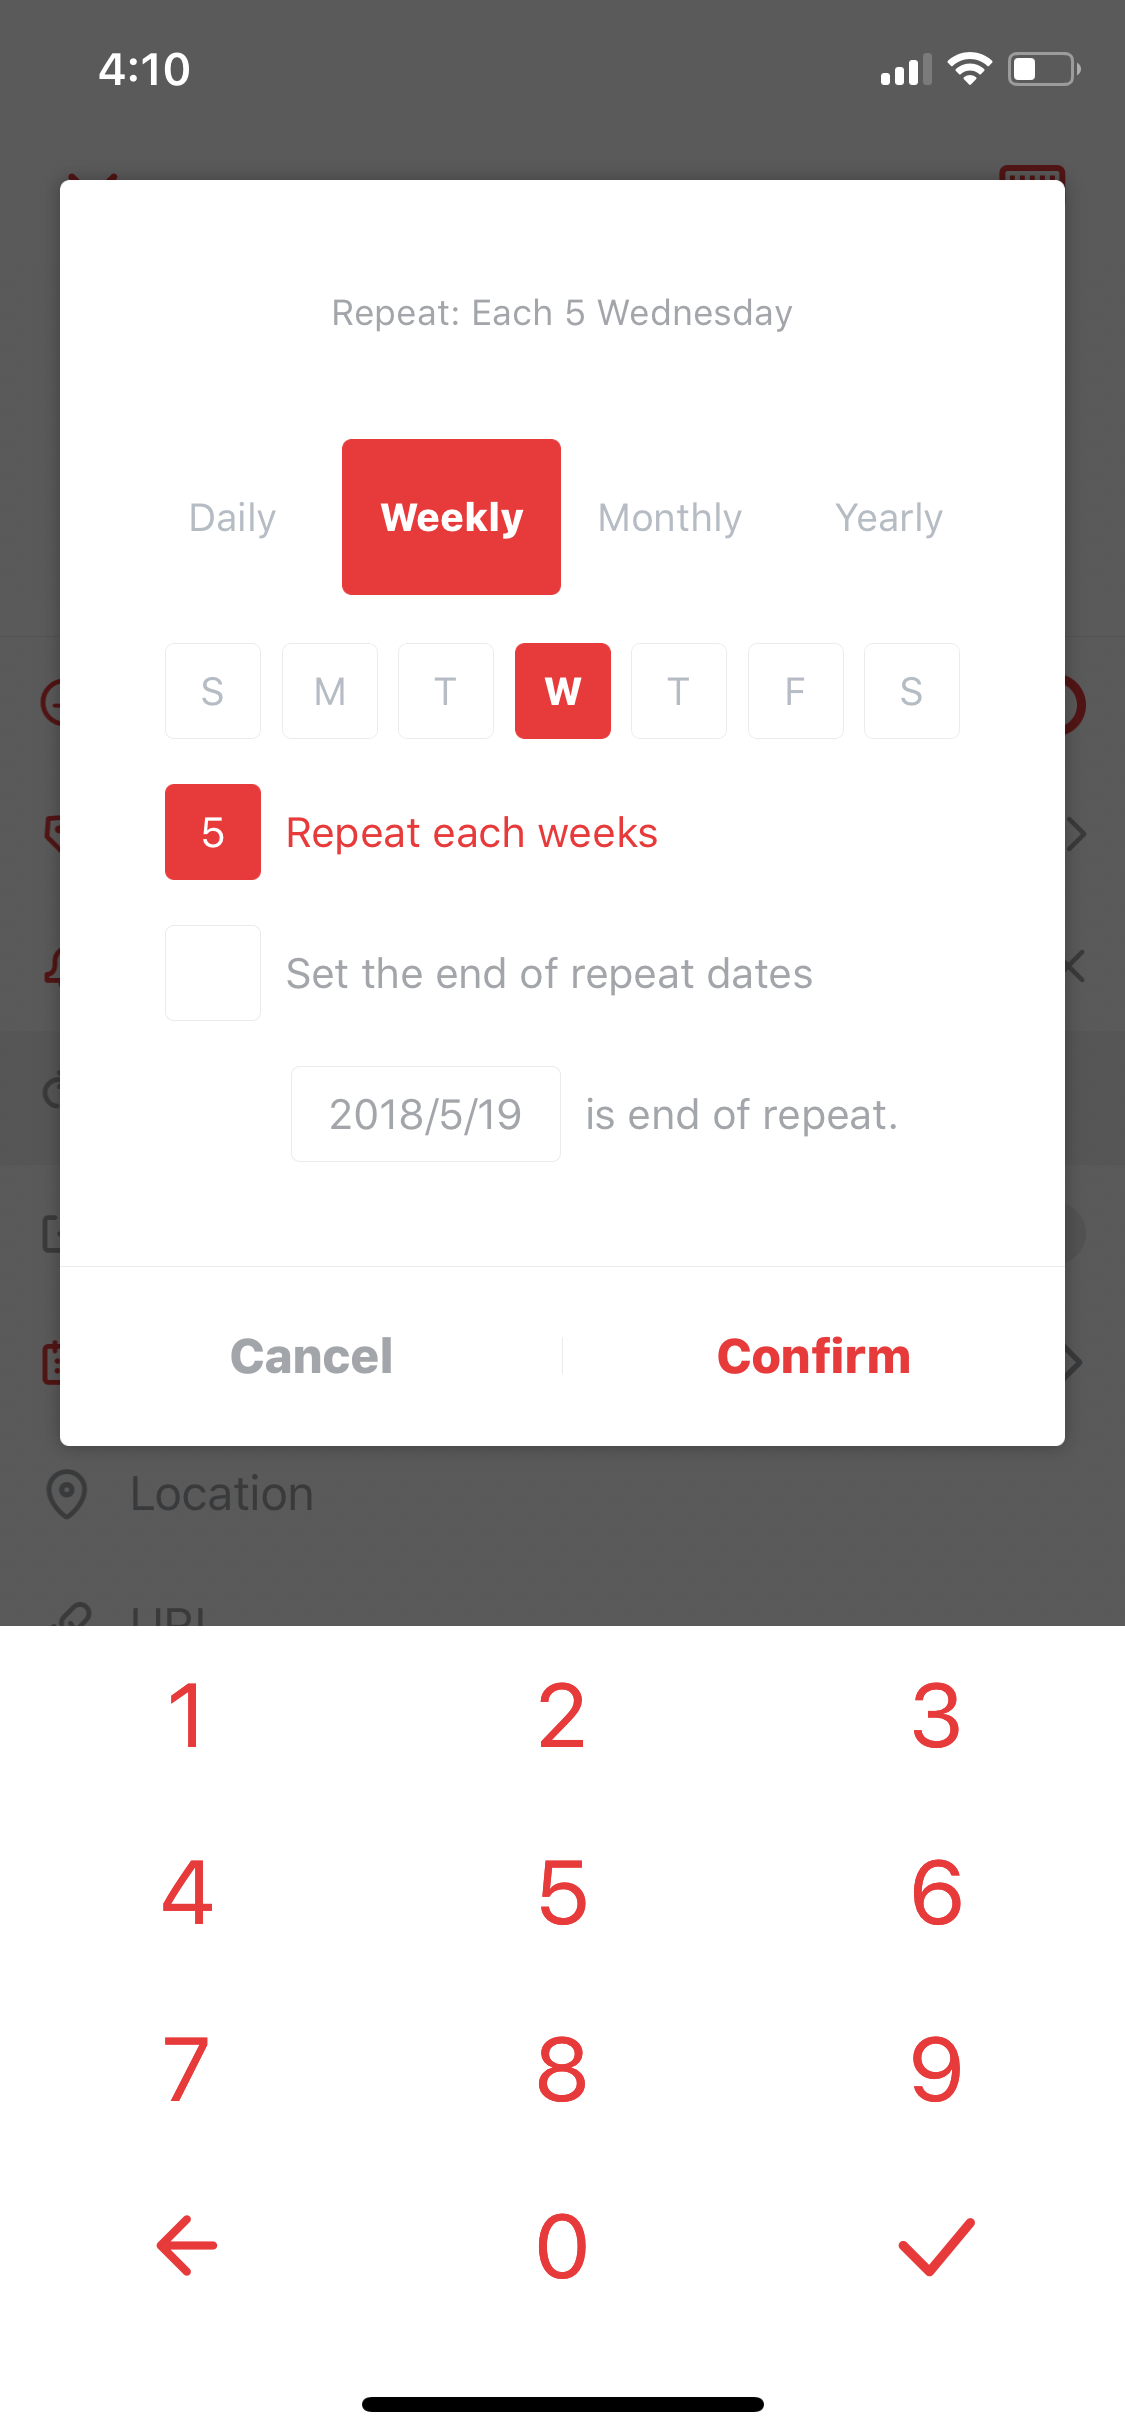Buttons: (622, 1261, 1001, 1434), (134, 1265, 486, 1432)
